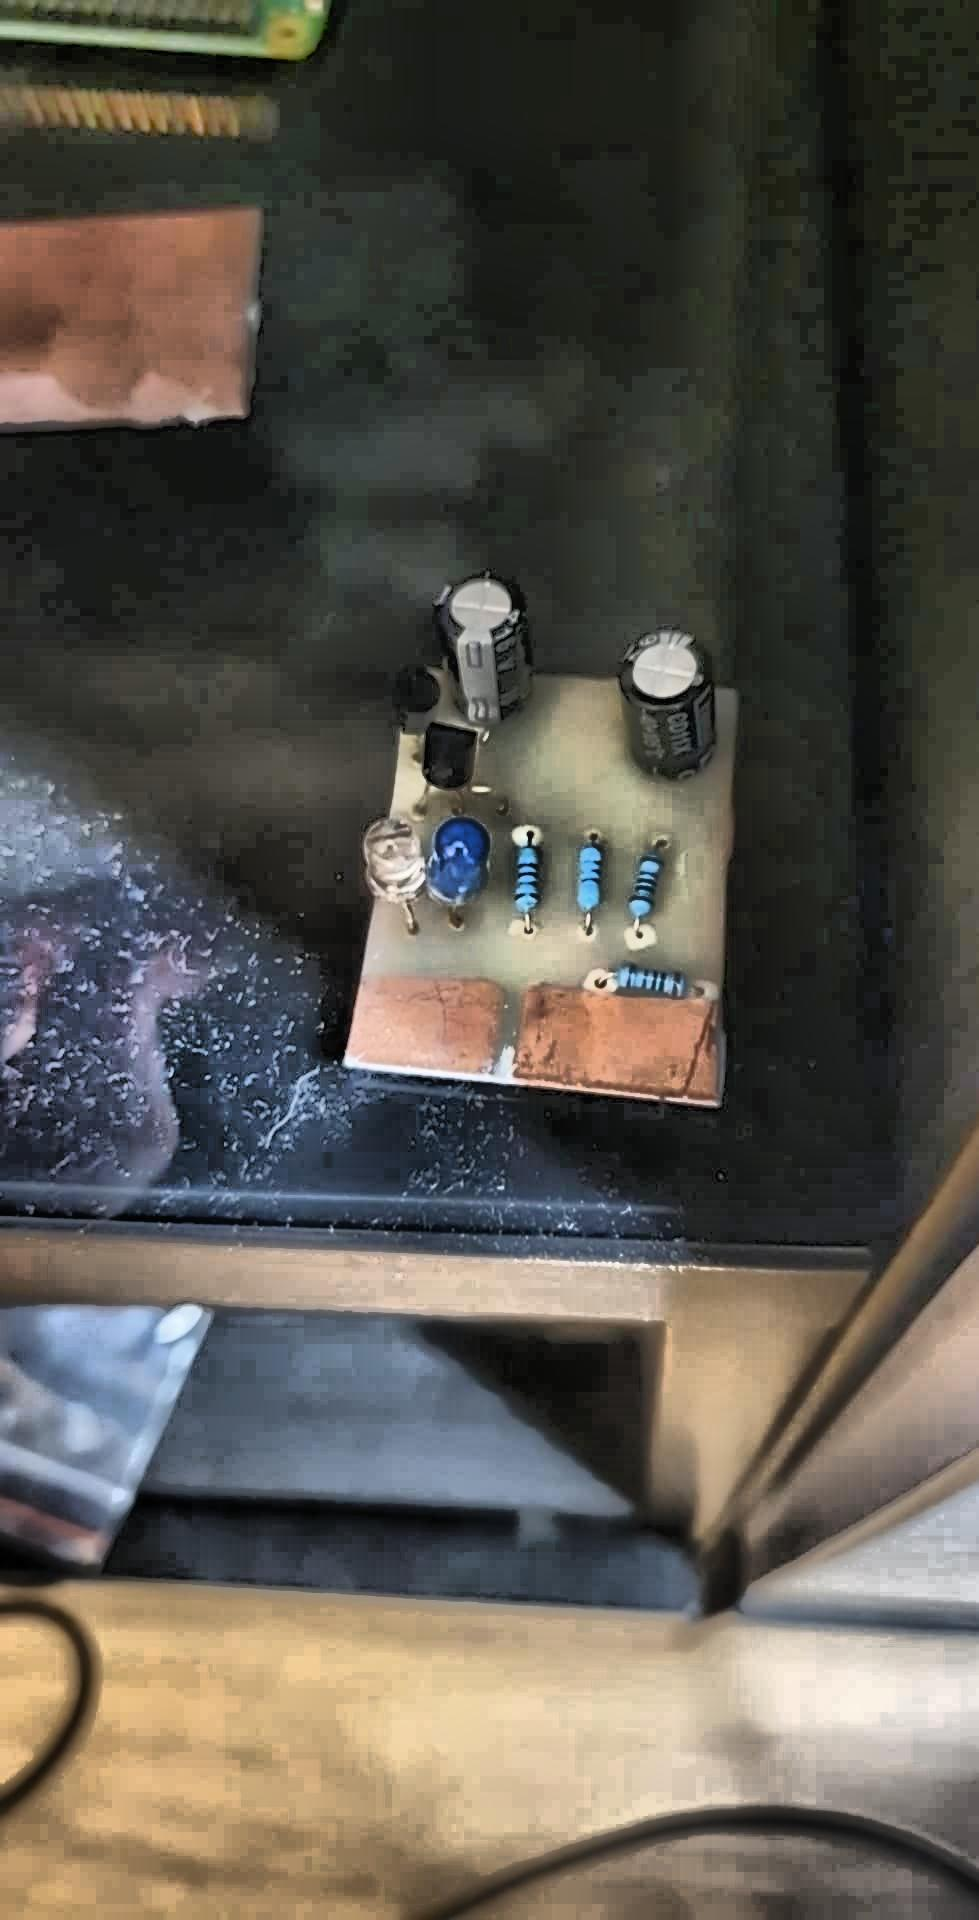IC: (511, 981, 738, 1106), (343, 955, 511, 1091)
